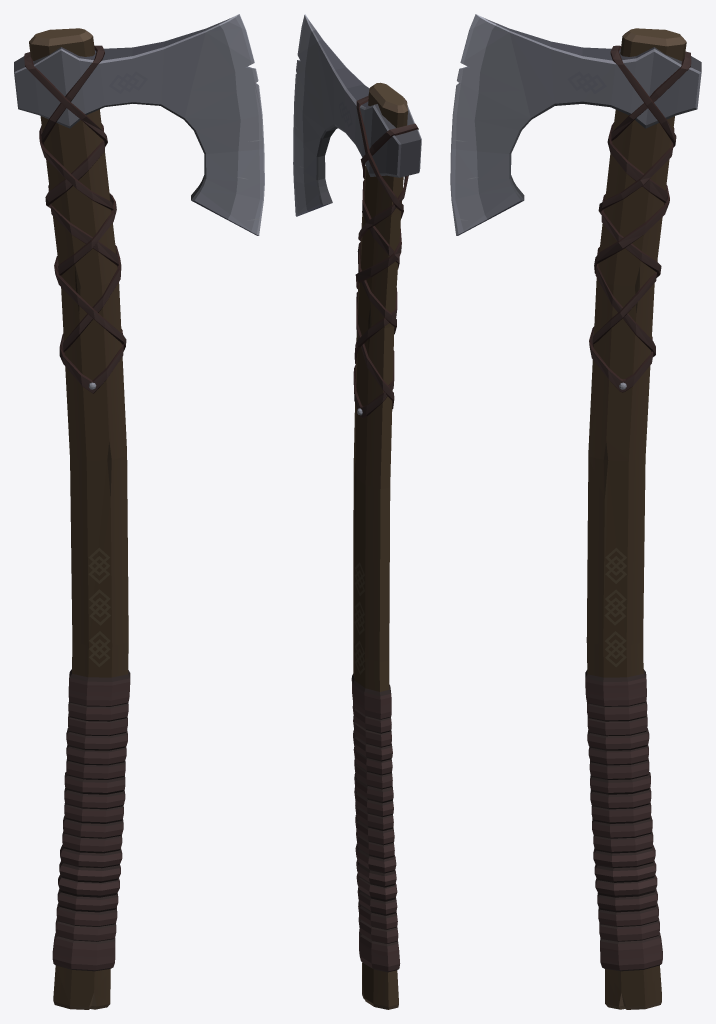
The model's file is bluntLightVikingAxe.glb.
3 views of the same model, side by side, from view 1: azimuth 90°, elevation 25°; view 2: azimuth 210°, elevation 25°; view 3: azimuth 270°, elevation 25° (orthographic). The views are drawn at different scales.
Visible parts, largest first — view 1: bluntLightVikingAxe; view 2: bluntLightVikingAxe; view 3: bluntLightVikingAxe.
Part boxes in pixels (x1,y1,x2,y2): bluntLightVikingAxe: [14, 14, 264, 1009]; bluntLightVikingAxe: [293, 14, 421, 1009]; bluntLightVikingAxe: [450, 14, 701, 1009].
Bounding box in the file's own units: 0.0383 × 0.8536 × 0.1961.
